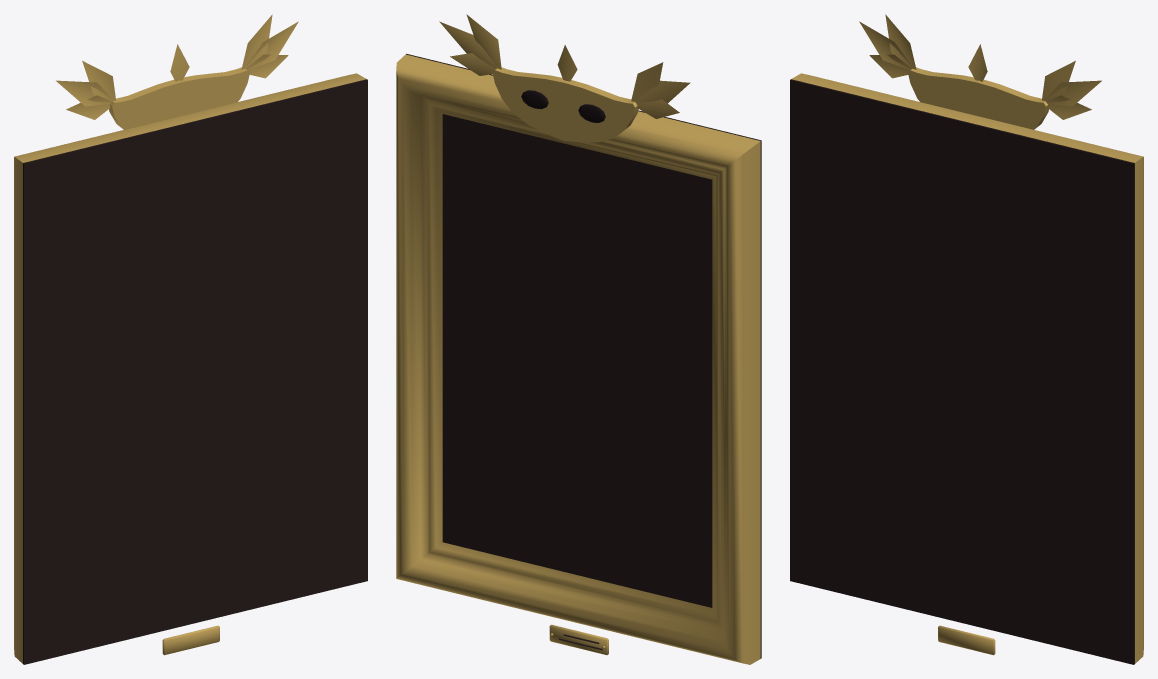
Rendered from mask_crest_full.glb.
3 renders of one model, left to right at view 1: azimuth 30°, elevation 25°; view 2: azimuth 150°, elevation 25°; view 3: azimuth 330°, elevation 25°, orthographic. The views are drawn at different scales.
Visible parts, largest first — view 1: mask_crest_full; view 2: mask_crest_full; view 3: mask_crest_full.
Boxes of the visible parts, left/top/right/bottom form: mask_crest_full: left=14, top=14, right=367, bottom=664; mask_crest_full: left=396, top=14, right=761, bottom=664; mask_crest_full: left=790, top=14, right=1143, bottom=664.
Size of what is drawn, in the model's own units: 0.847 by 1.41 by 0.0883.
